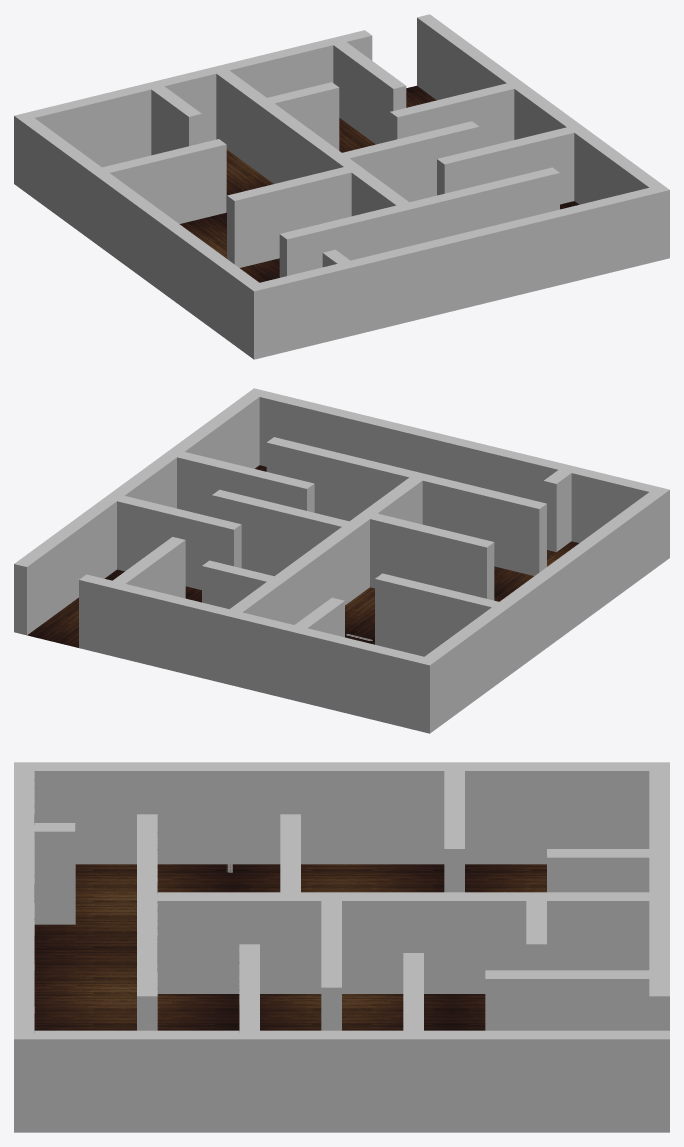
Rendered from level2.fbx.
3 views of the same model, one above another, from view 1: azimuth 30°, elevation 25°; view 2: azimuth 150°, elevation 25°; view 3: azimuth 270°, elevation 25° (orthographic). The views are drawn at different scales.
Visible parts, largest first — view 1: Plane; view 2: Plane; view 3: Plane.
Part boxes in pixels (bbox=[...]): Plane: bbox=[14, 14, 669, 359]; Plane: bbox=[14, 388, 669, 733]; Plane: bbox=[14, 762, 669, 1132].
Size of the model in its own units: 16.1 by 2.53 by 16.1.
